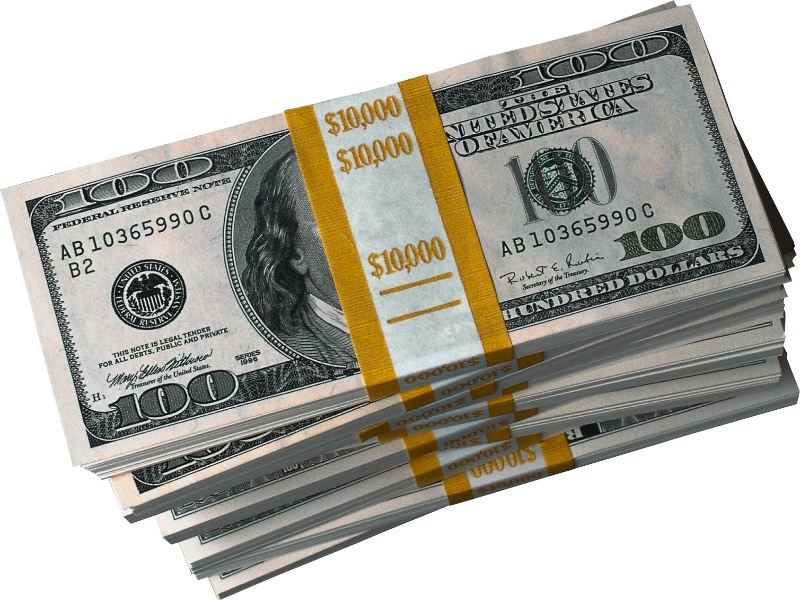cash: (5, 2, 800, 599)
